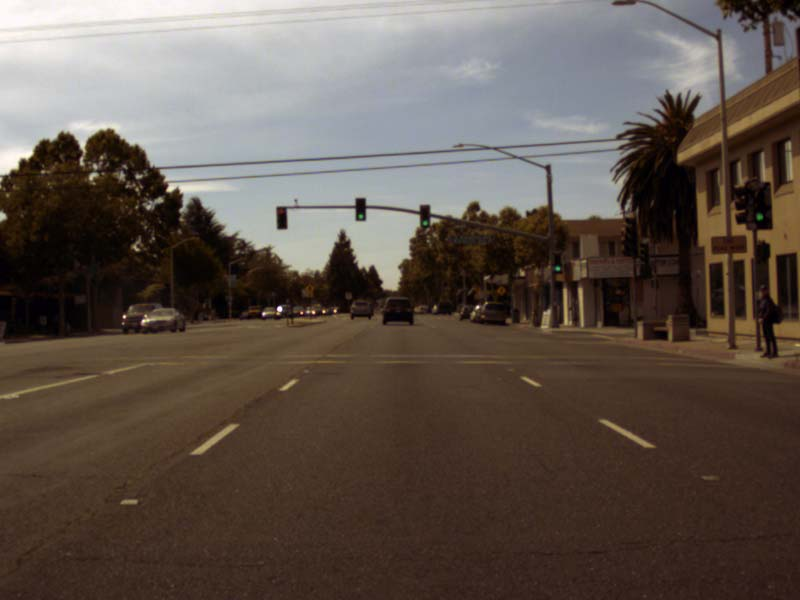Green: (748, 182, 772, 227), (354, 197, 366, 220), (419, 205, 430, 226), (552, 253, 562, 274)
Red: (276, 207, 287, 228)
